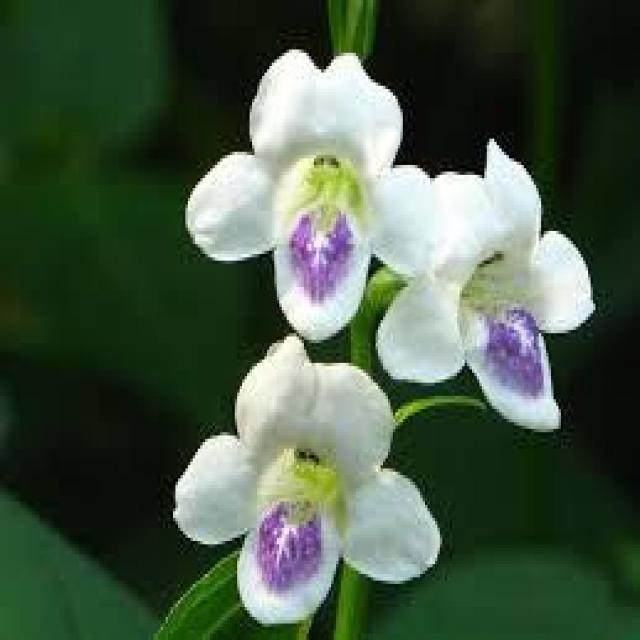organic waste: (167, 344, 446, 618), (363, 134, 596, 444), (188, 63, 432, 330)
